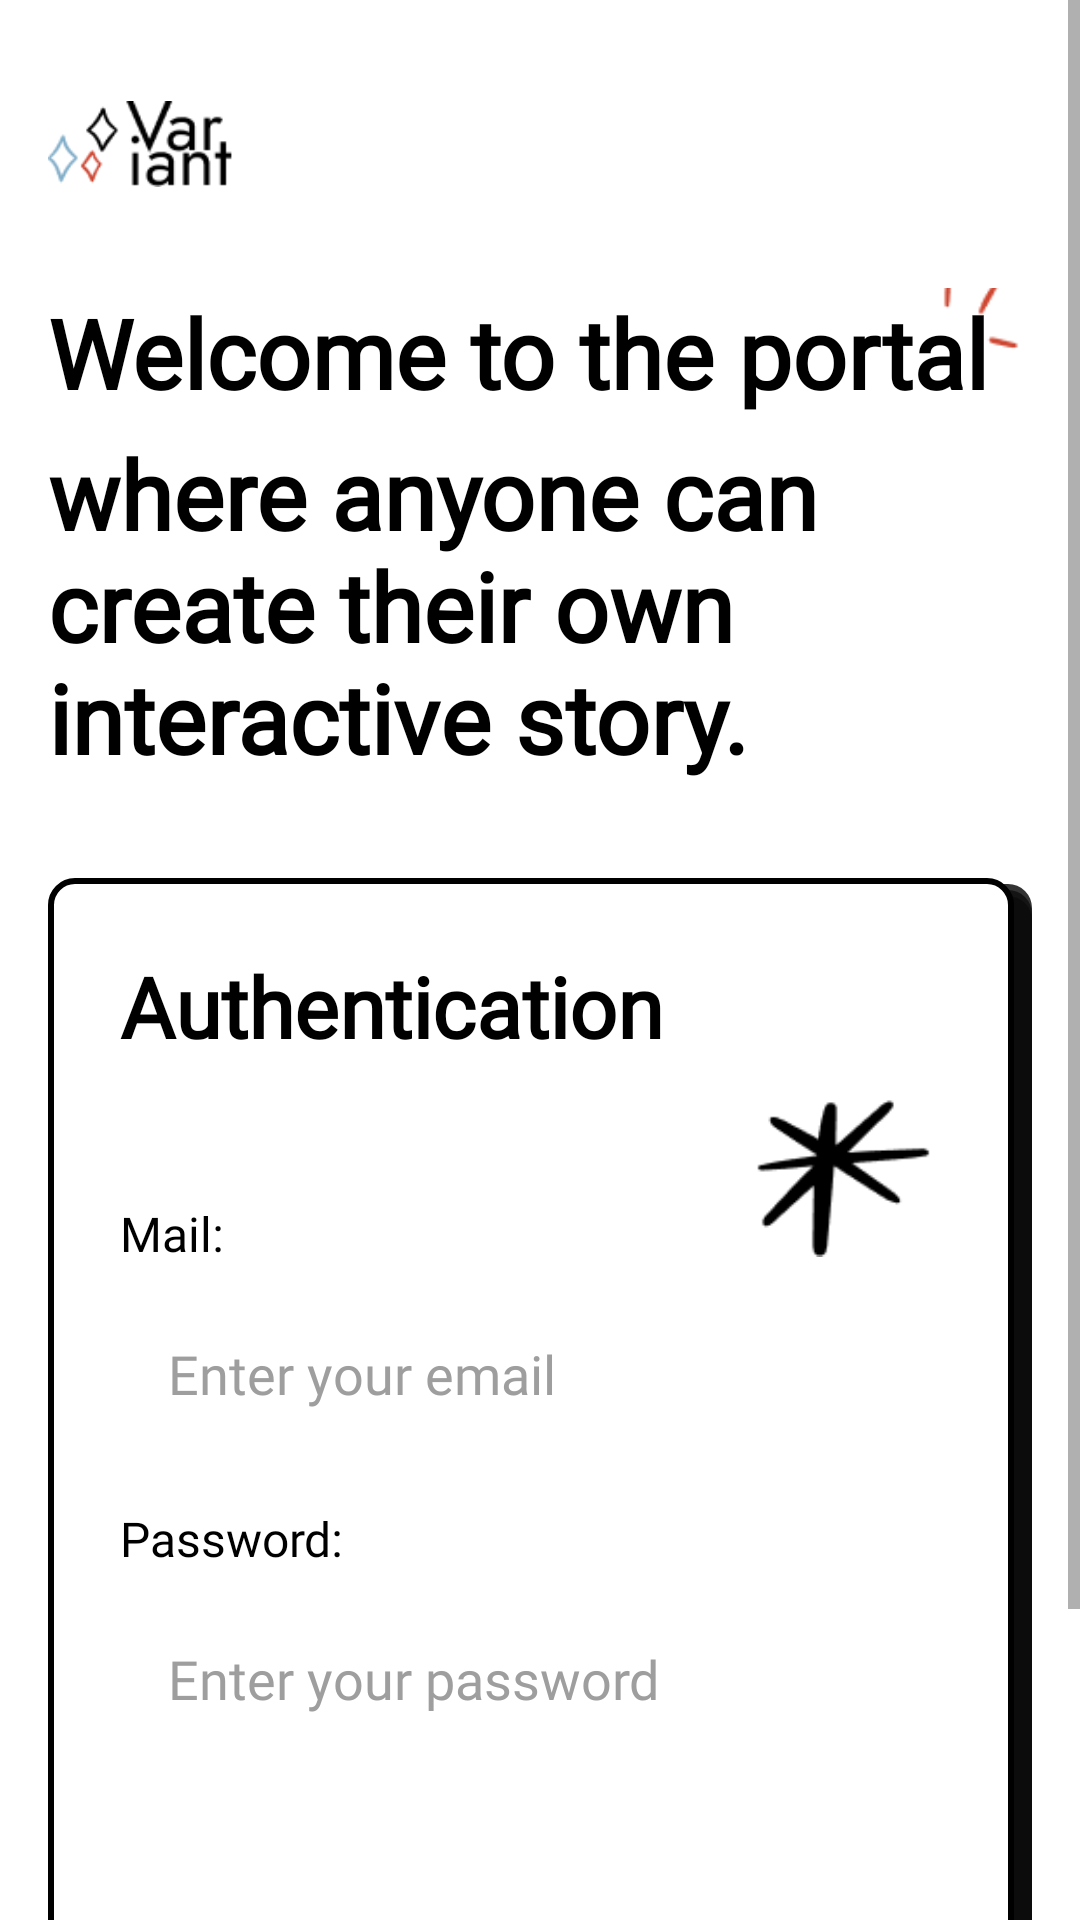

Screen size 1080x1920. Icon name, then its box in pixels as (x1, y1, x2, y2):
star: (757, 1100, 930, 1257)
